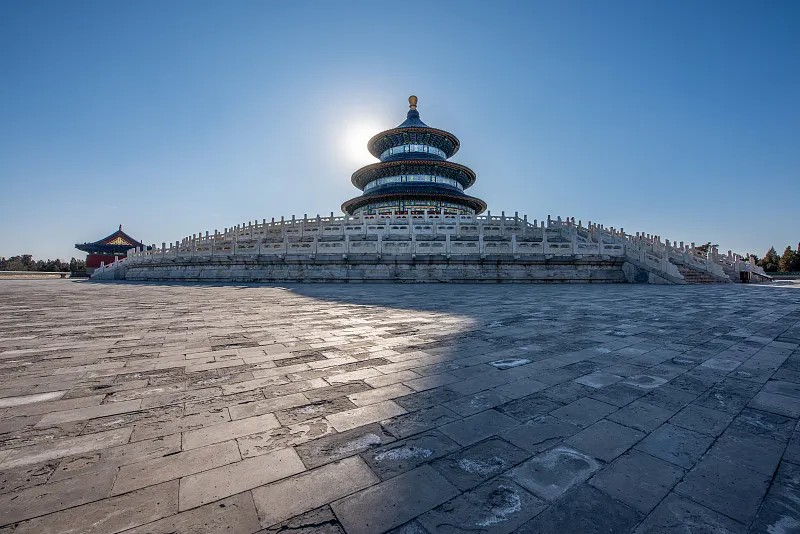Heaven: (340, 94, 488, 218)
